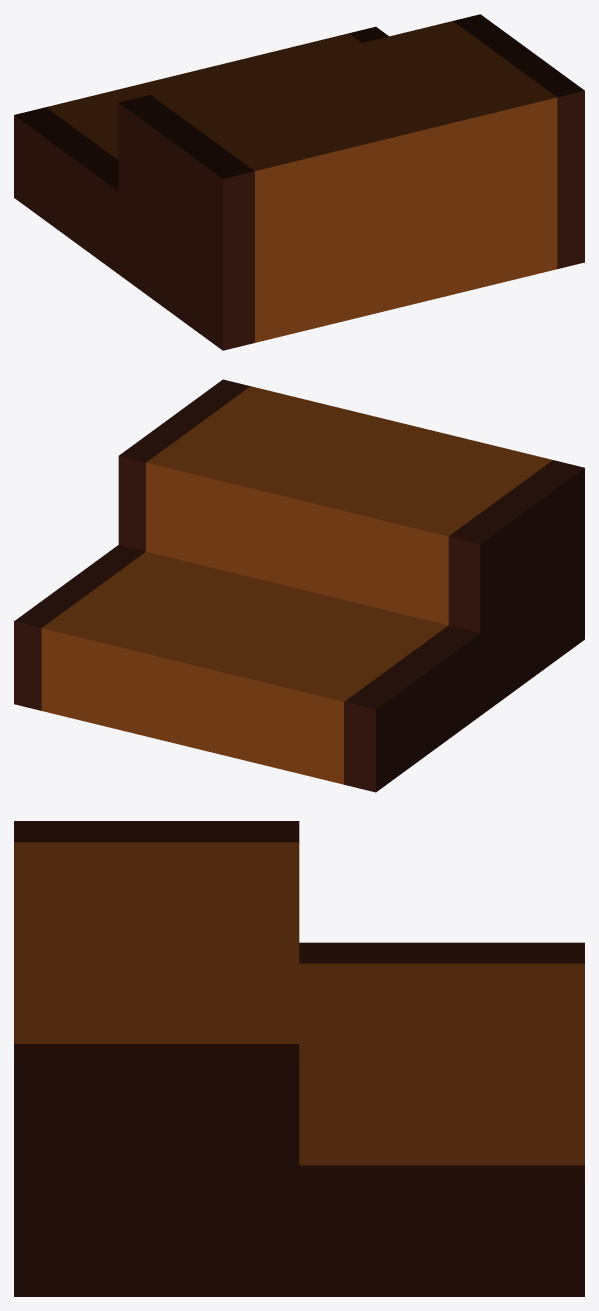
The model's file is Stairs 2.fbx.
3 renders of one model, top to bottom at view 1: azimuth 30°, elevation 25°; view 2: azimuth 150°, elevation 25°; view 3: azimuth 270°, elevation 25°, orthographic. The views are drawn at different scales.
Visible parts, largest first — view 1: Stairs; view 2: Stairs; view 3: Stairs.
Part boxes in pixels (x1,y1,x2,y2): Stairs: (14,14,584,350); Stairs: (14,379,584,792); Stairs: (14,821,584,1296).
Size of the model in its own units: 0.7127 by 0.3232 by 0.7127.
